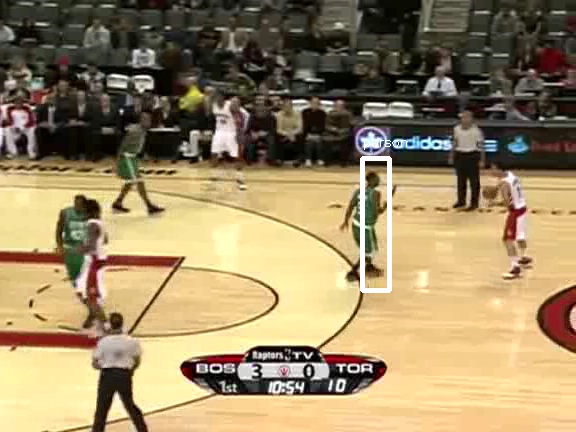person: (348, 181, 382, 262), (347, 181, 381, 262), (349, 181, 383, 262), (348, 180, 382, 261), (348, 182, 382, 263)
target_negative: (86, 221, 478, 404), (382, 82, 456, 276), (296, 177, 436, 237), (45, 375, 285, 395), (505, 311, 574, 369), (456, 49, 513, 56)
